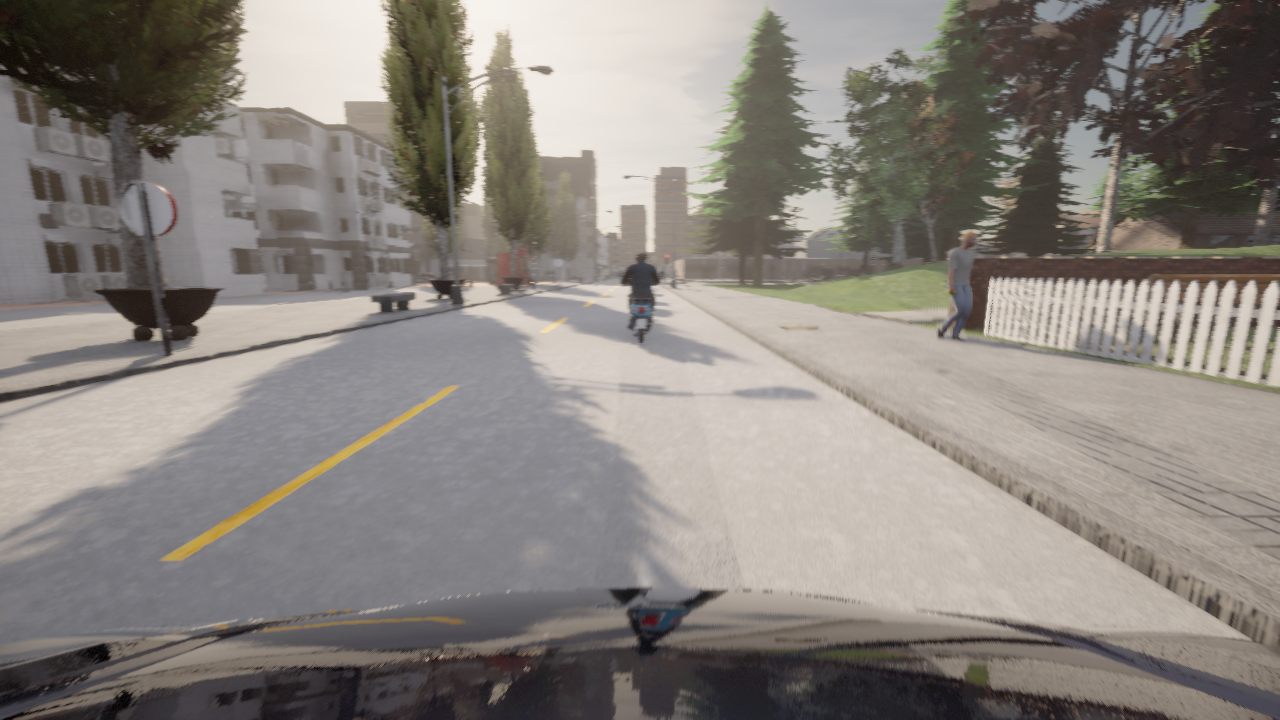cyclist: (0, 588, 1279, 719), (618, 271, 664, 343), (806, 275, 824, 282)
pedestrian: (937, 231, 979, 341), (530, 263, 538, 289)
